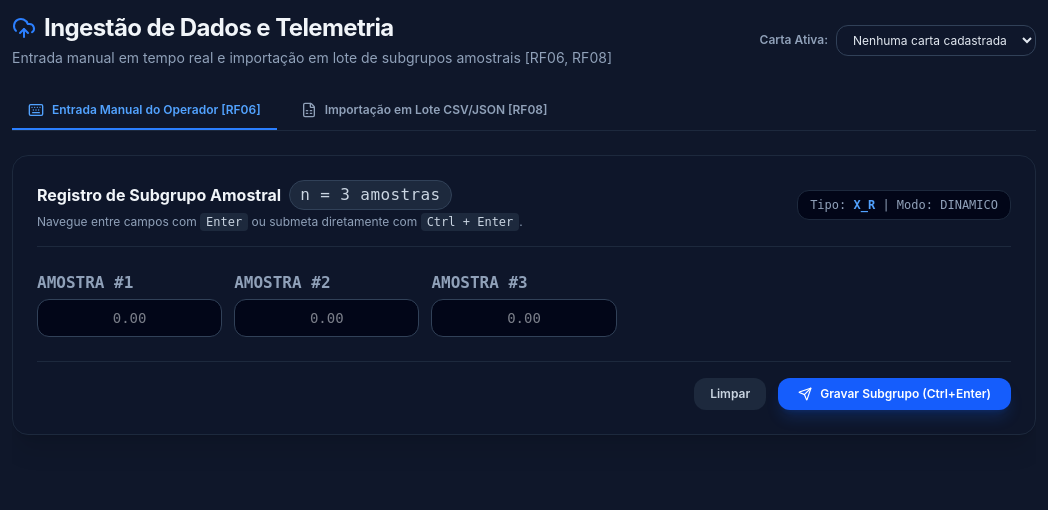
Test case: IngestaoPage › deve validar valores ausentes ou não numéricos na submissão manual
Expected: the field labelled "Amostra #1" is shown, [37,299,222,337]
Step 1. Click the button "Gravar Subgrupo (Ctrl+Enter)" → (895, 394), box [778,378,1011,410]
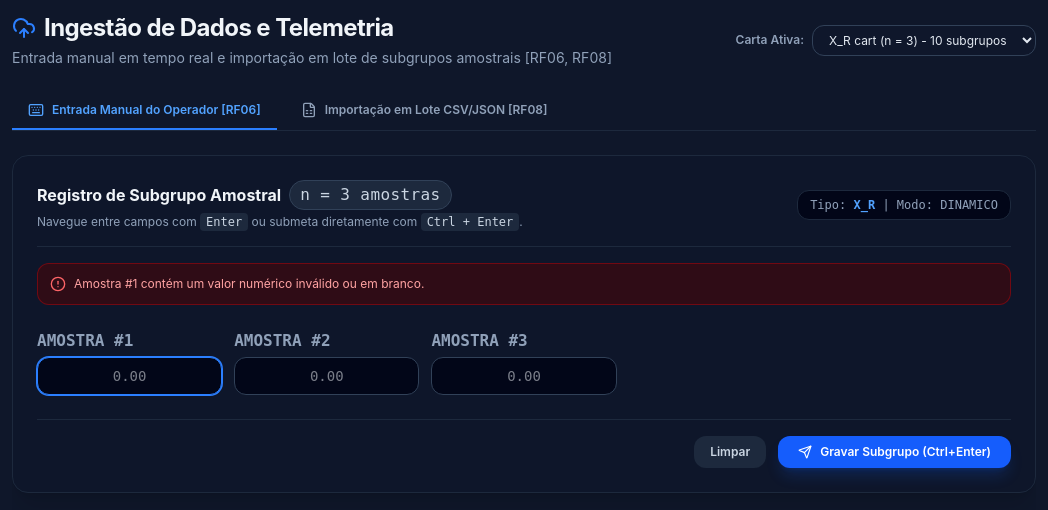
Expected: the text "Amostra #1 contém um valor numérico inválido ou em branco." is shown, [74,276,424,292]
